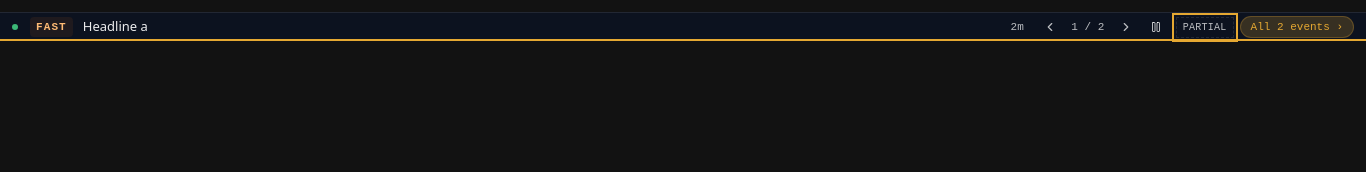
rendering › the PARTIAL tag is focusable and shows the kinds on screen when activated
Click the button with test id "events-partial" at (1205, 27), box [1176,16,1234,38]
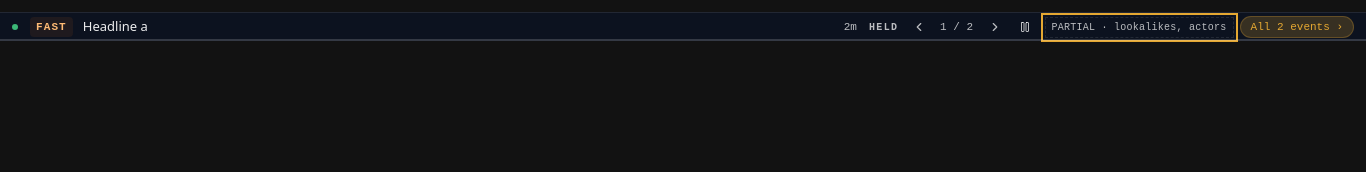
Expected: the button with test id "events-partial" is expanded, [1044,16,1234,38]
Expected: the button with test id "events-partial" shows "· lookalikes, actors", [1044,16,1234,38]
